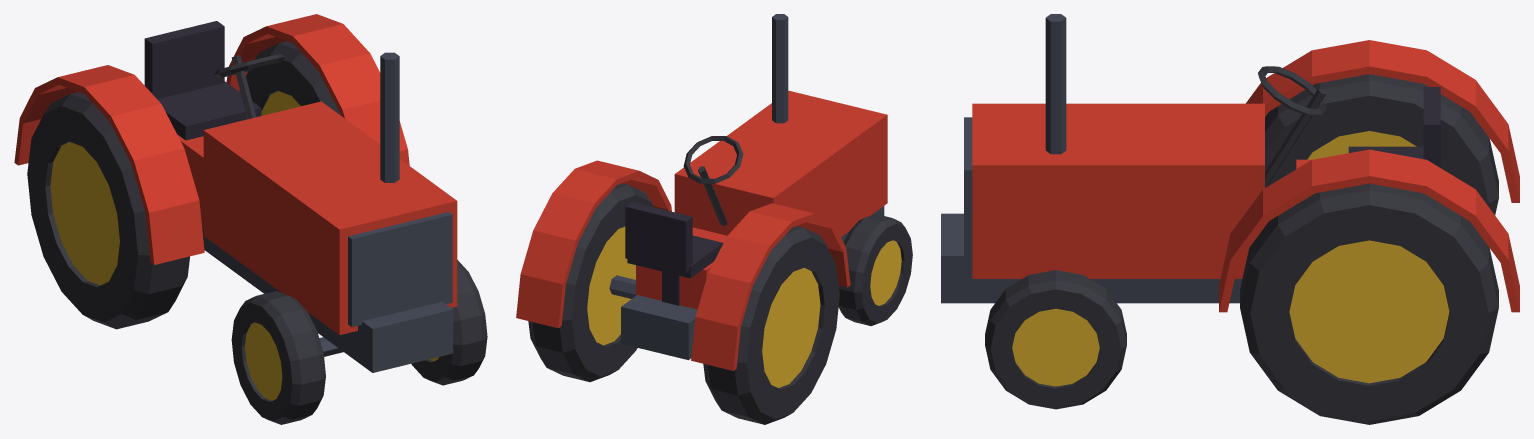
Rendered from pixor-library-tractor.glb.
The picture shows the model from 3 angles, left to right: view 1: azimuth 30°, elevation 25°; view 2: azimuth 150°, elevation 25°; view 3: azimuth 270°, elevation 25°; orthographic projection. The views are drawn at different scales.
Parts seen in each view (by area): view 1: Tractor bonnet, Tractor tyres, Tractor mudguards, Tractor hubs, Tractor grille, Tractor seat, Tractor chassis, Tractor exhaust, Tractor steering; view 2: Tractor tyres, Tractor bonnet, Tractor mudguards, Tractor hubs, Tractor seat, Tractor chassis, Tractor exhaust, Tractor steering, Tractor axles; view 3: Tractor tyres, Tractor bonnet, Tractor hubs, Tractor mudguards, Tractor chassis, Tractor exhaust, Tractor steering, Tractor seat, Tractor grille.
Boxes of the visible parts, bbox=[...] form: Tractor bonnet: bbox=[177, 101, 457, 335]; Tractor tyres: bbox=[27, 41, 487, 424]; Tractor mudguards: bbox=[14, 14, 409, 264]; Tractor hubs: bbox=[50, 91, 438, 400]; Tractor grille: bbox=[348, 212, 452, 326]; Tractor seat: bbox=[144, 21, 261, 140]; Tractor chassis: bbox=[202, 227, 453, 372]; Tractor exhaust: bbox=[380, 52, 399, 182]; Tractor steering: bbox=[214, 54, 284, 118]; Tractor tyres: bbox=[528, 183, 912, 424]; Tractor bonnet: bbox=[636, 90, 887, 309]; Tractor mudguards: bbox=[516, 160, 850, 370]; Tractor hubs: bbox=[587, 226, 901, 387]; Tractor seat: bbox=[625, 202, 723, 305]; Tractor chassis: bbox=[621, 206, 884, 360]; Tractor exhaust: bbox=[772, 14, 788, 123]; Tractor steering: bbox=[683, 136, 743, 225]; Tractor axles: bbox=[609, 275, 635, 298]; Tractor tyres: bbox=[985, 74, 1498, 424]; Tractor bonnet: bbox=[972, 103, 1311, 278]; Tractor hubs: bbox=[1012, 131, 1449, 386]; Tractor mudguards: bbox=[1219, 40, 1519, 312]; Tractor chassis: bbox=[941, 213, 1242, 303]; Tractor exhaust: bbox=[1045, 14, 1066, 154]; Tractor steering: bbox=[1258, 66, 1326, 184]; Tractor seat: bbox=[1348, 87, 1440, 167]; Tractor grille: bbox=[964, 117, 972, 264].
Bounding box in the file's own units: 1.56 × 1.9 × 2.77.
